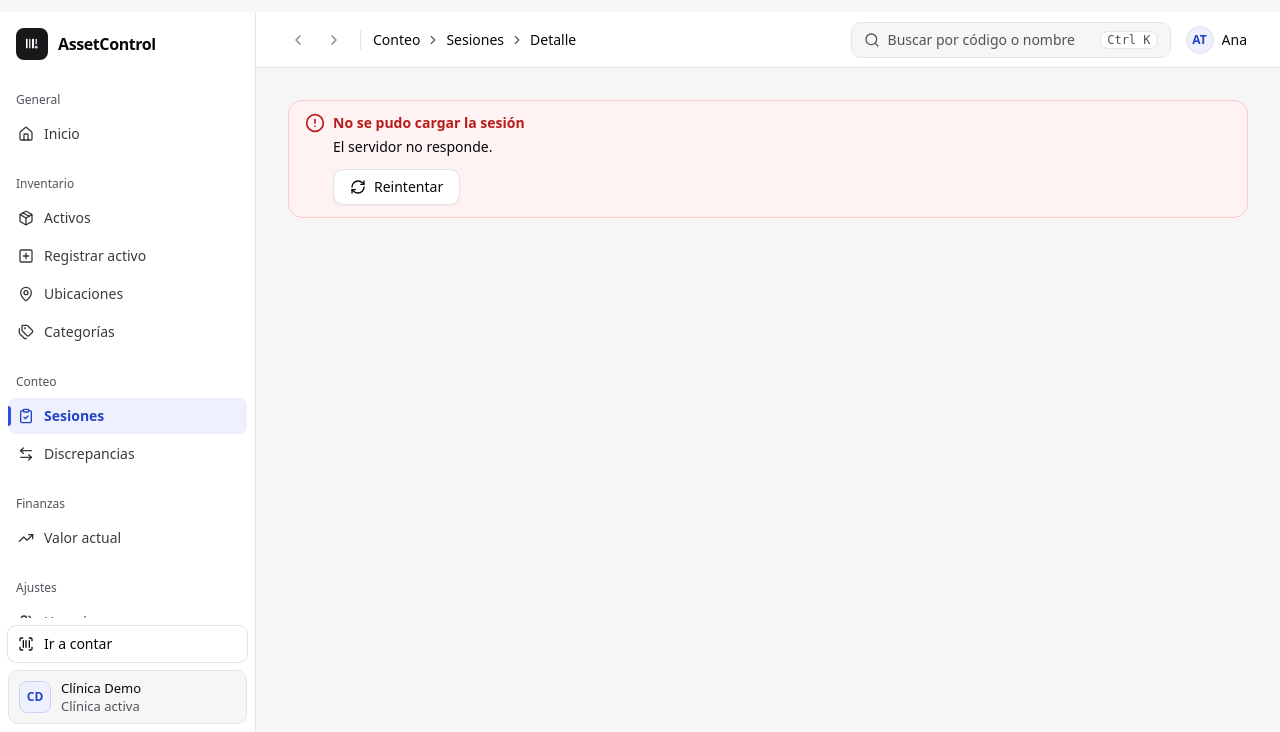
caracterización de Sesiones (T9): lo que no cambia › el detalle que no carga ofrece «Reintentar»
The image size is (1280, 732).
Expected: the text "No se pudo cargar la sesión" is shown, [333,113,525,132]
Click the button "Reintentar". click: (397, 187)
box: [333,169,460,205]
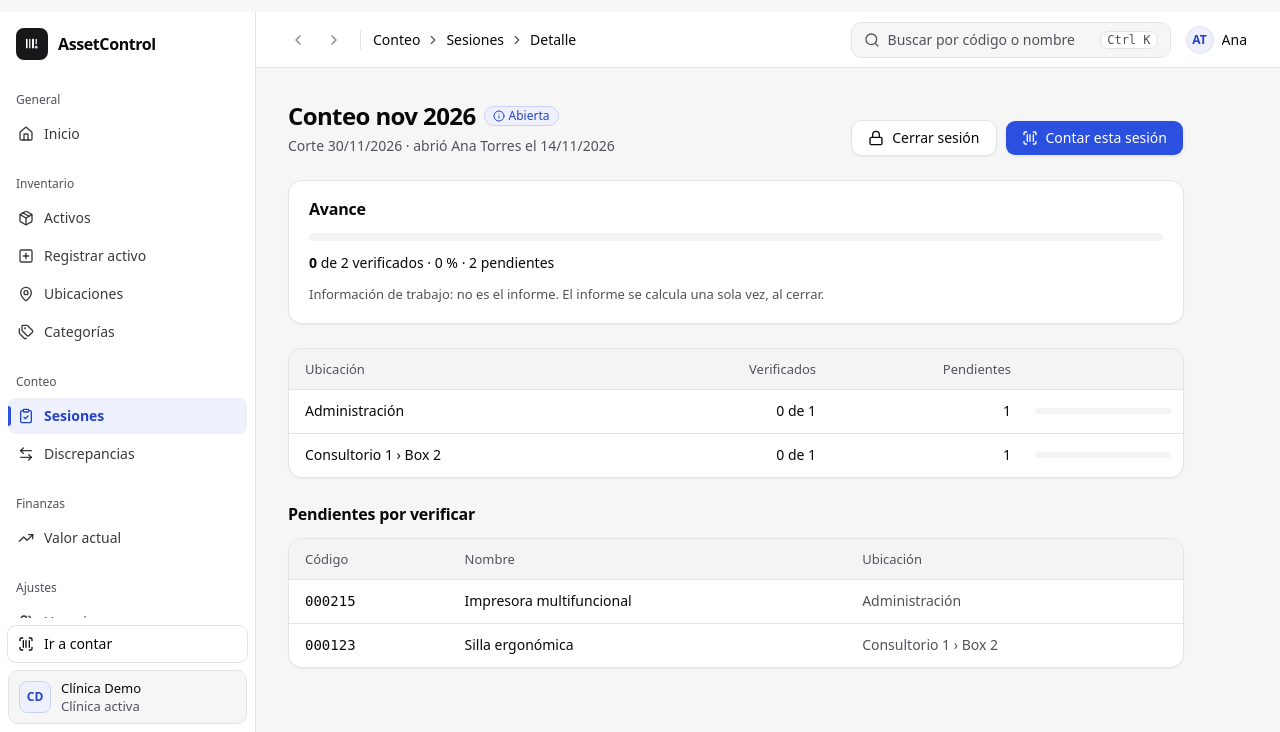
Expected: the heading "Conteo nov 2026" is shown, [288,100,476,132]
